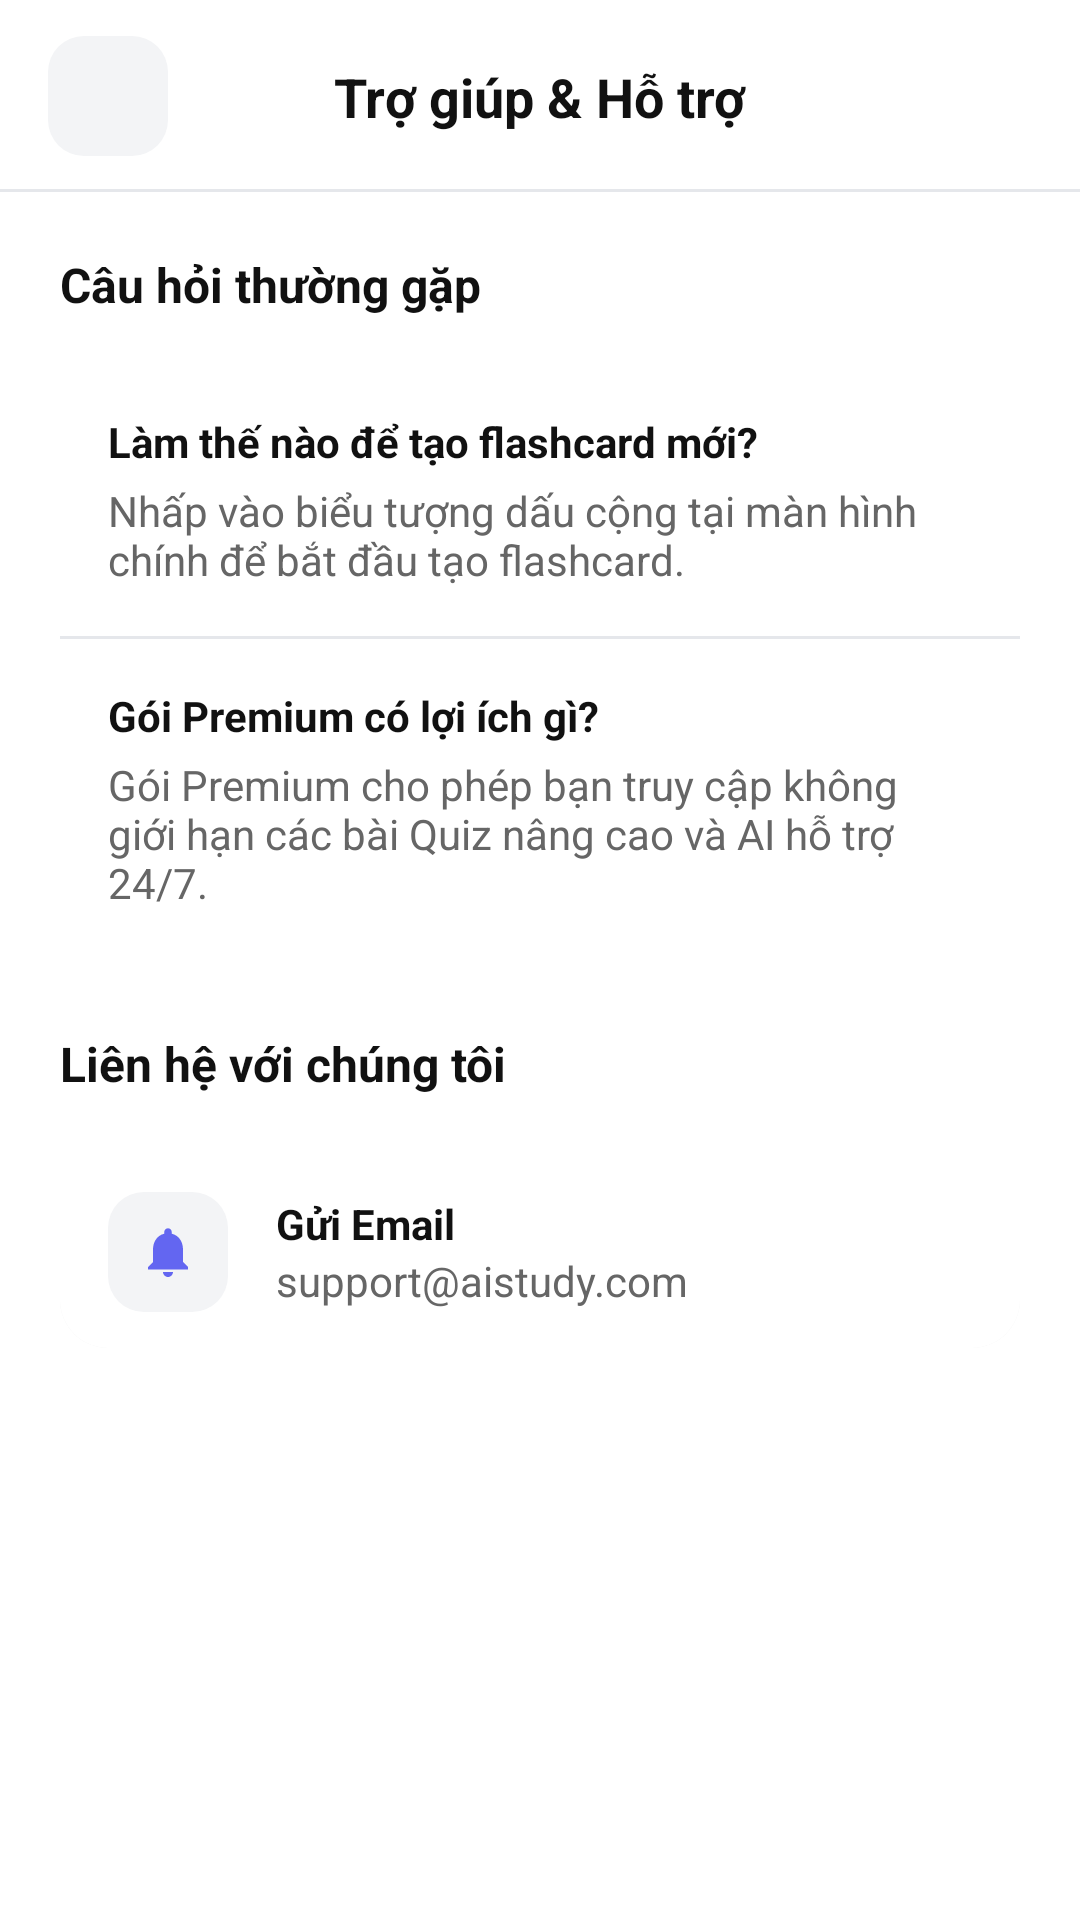

Icons on this 1080 × 1920 Android screen, each with its box as (x1, y1, x2, y2):
bell: (148, 1228, 188, 1277)
